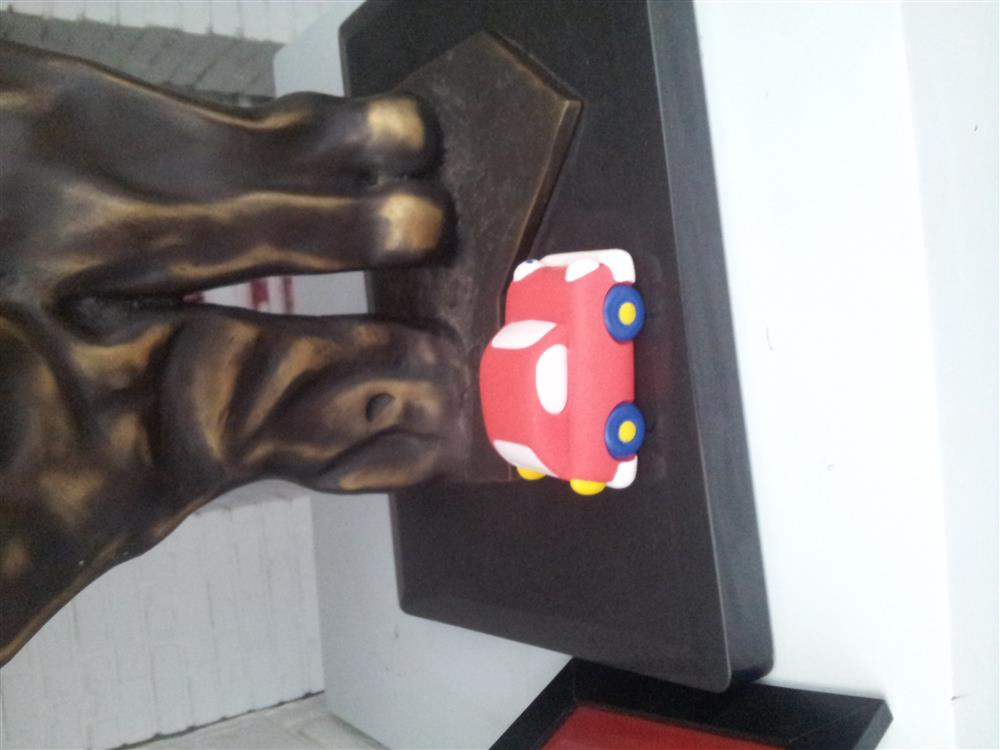red_car: (471, 241, 646, 503)
